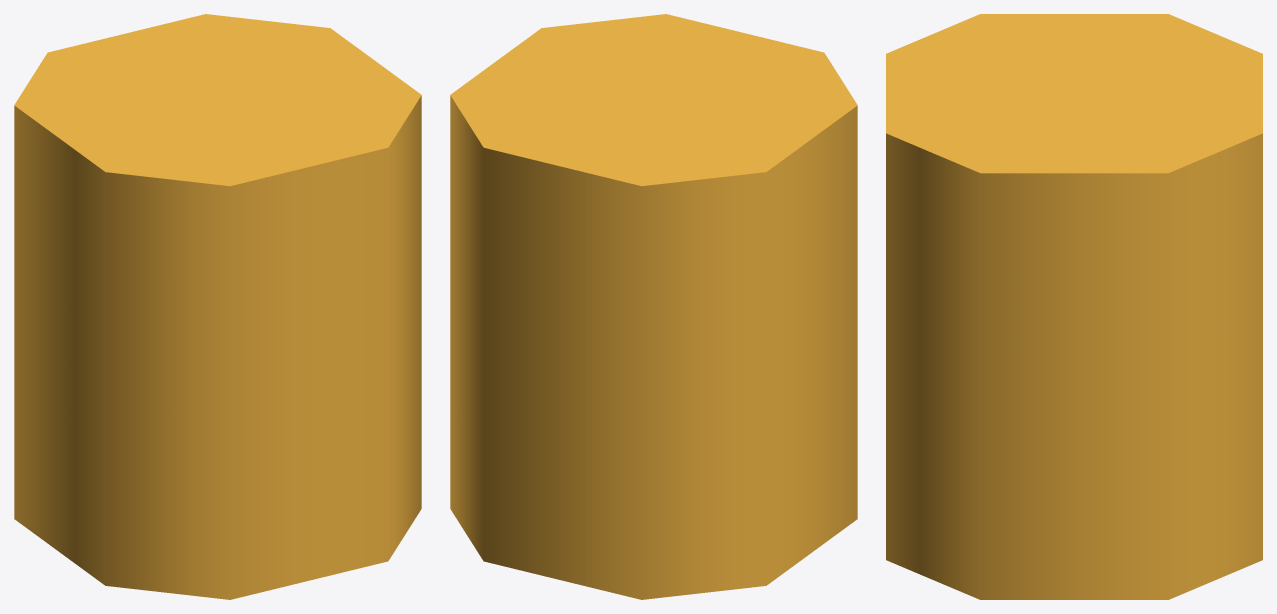
File: kenney-marble-support-color-single-middle.glb
The picture shows the model from 3 angles, left to right: view 1: azimuth 30°, elevation 25°; view 2: azimuth 150°, elevation 25°; view 3: azimuth 270°, elevation 25°; orthographic projection. The views are drawn at different scales.
Parts seen in each view (by area): view 1: support-color-single-middle; view 2: support-color-single-middle; view 3: support-color-single-middle.
Part boxes in pixels (x1=…): support-color-single-middle: x1=14, y1=14, x2=421, y2=599; support-color-single-middle: x1=450, y1=14, x2=857, y2=599; support-color-single-middle: x1=886, y1=14, x2=1262, y2=599.
Size of the model in its own units: 0.4 by 0.5 by 0.4.
1 material, 1 textured.
